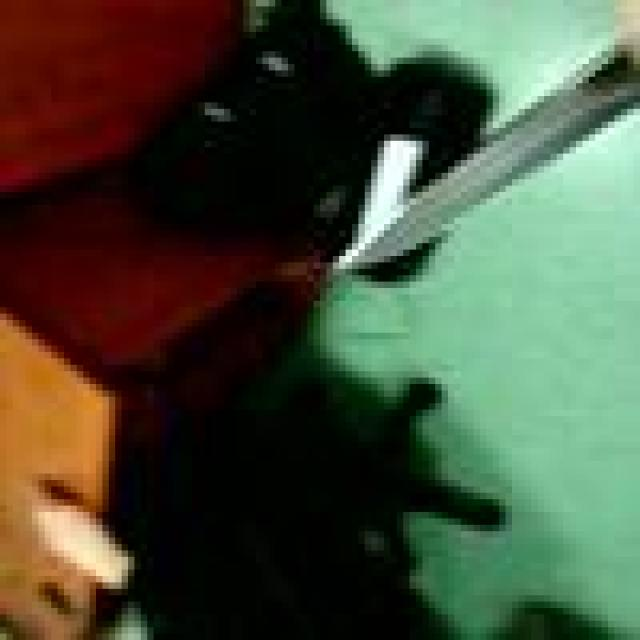knife: (334, 54, 636, 264)
